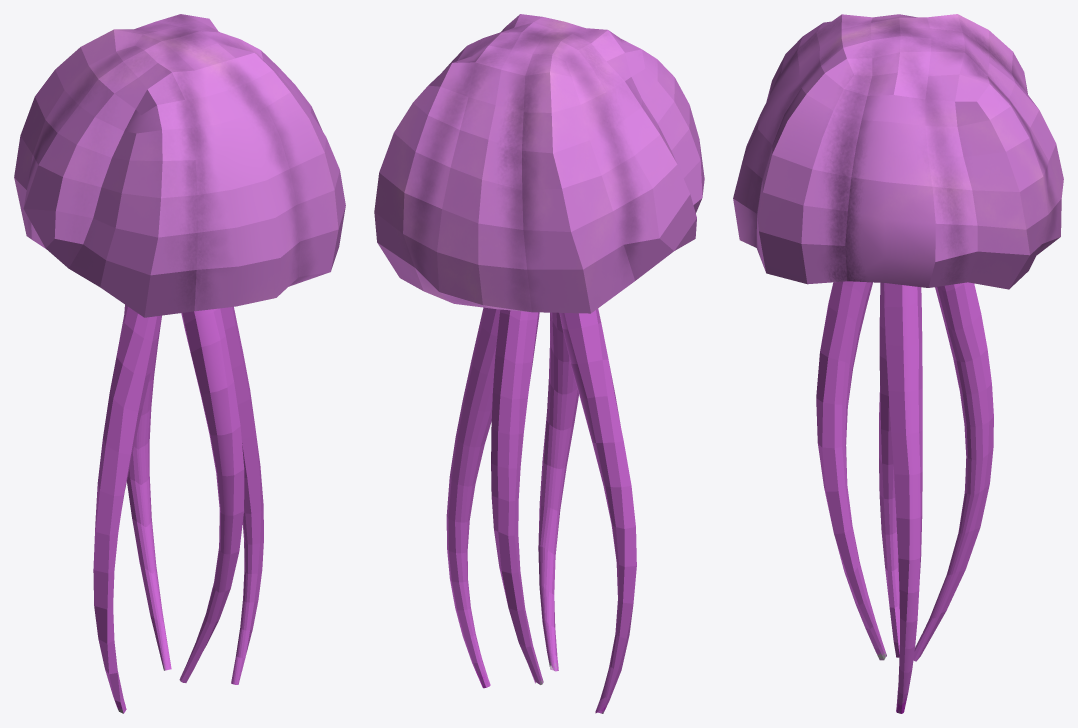
The model's file is jellyfish2_edit_for_FBX.fbx.
3 renders of one model, left to right at view 1: azimuth 30°, elevation 25°; view 2: azimuth 150°, elevation 25°; view 3: azimuth 270°, elevation 25°, orthographic.
Visible parts, largest first — view 1: jellyfish2_body, jellyfish2_legs; view 2: jellyfish2_body, jellyfish2_legs; view 3: jellyfish2_body, jellyfish2_legs.
Part boxes in pixels (box(x1,y1,x2,y2)): jellyfish2_body: box(14, 14, 345, 317); jellyfish2_legs: box(93, 304, 263, 713); jellyfish2_body: box(374, 14, 704, 313); jellyfish2_legs: box(446, 307, 636, 713); jellyfish2_body: box(733, 14, 1063, 289); jellyfish2_legs: box(816, 281, 993, 713).
Bounding box in the file's own units: 22030 × 49497 × 22523.
